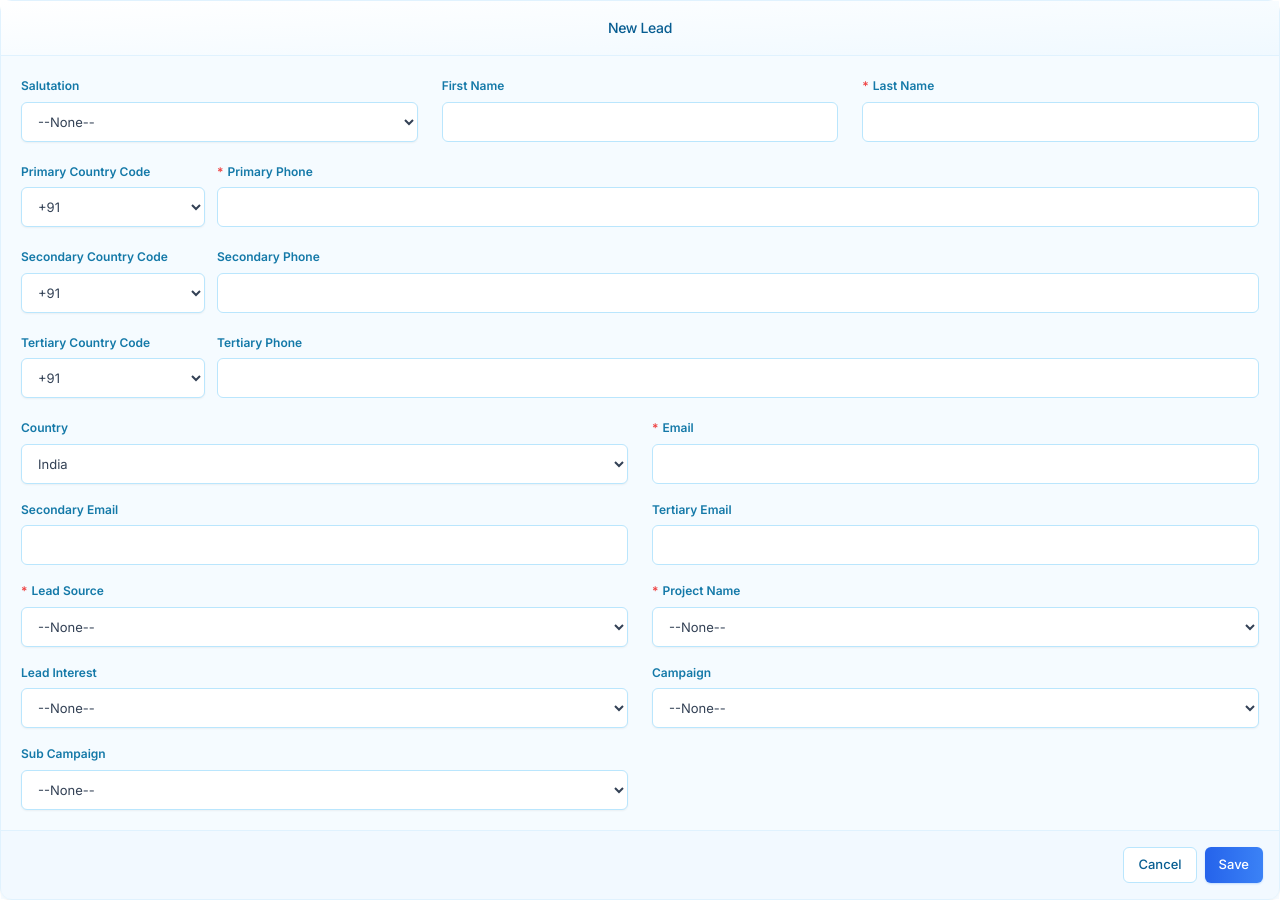
Test case: Create Lead duplicate handling › shows required errors by Save and highlights each missing field without submitting
(page scrolled)
Check: the dropdown labelled "*Project Name" is shown, box [652,606,1259,646]
Click the button "Save": (1234, 864) [1204,846,1263,882]
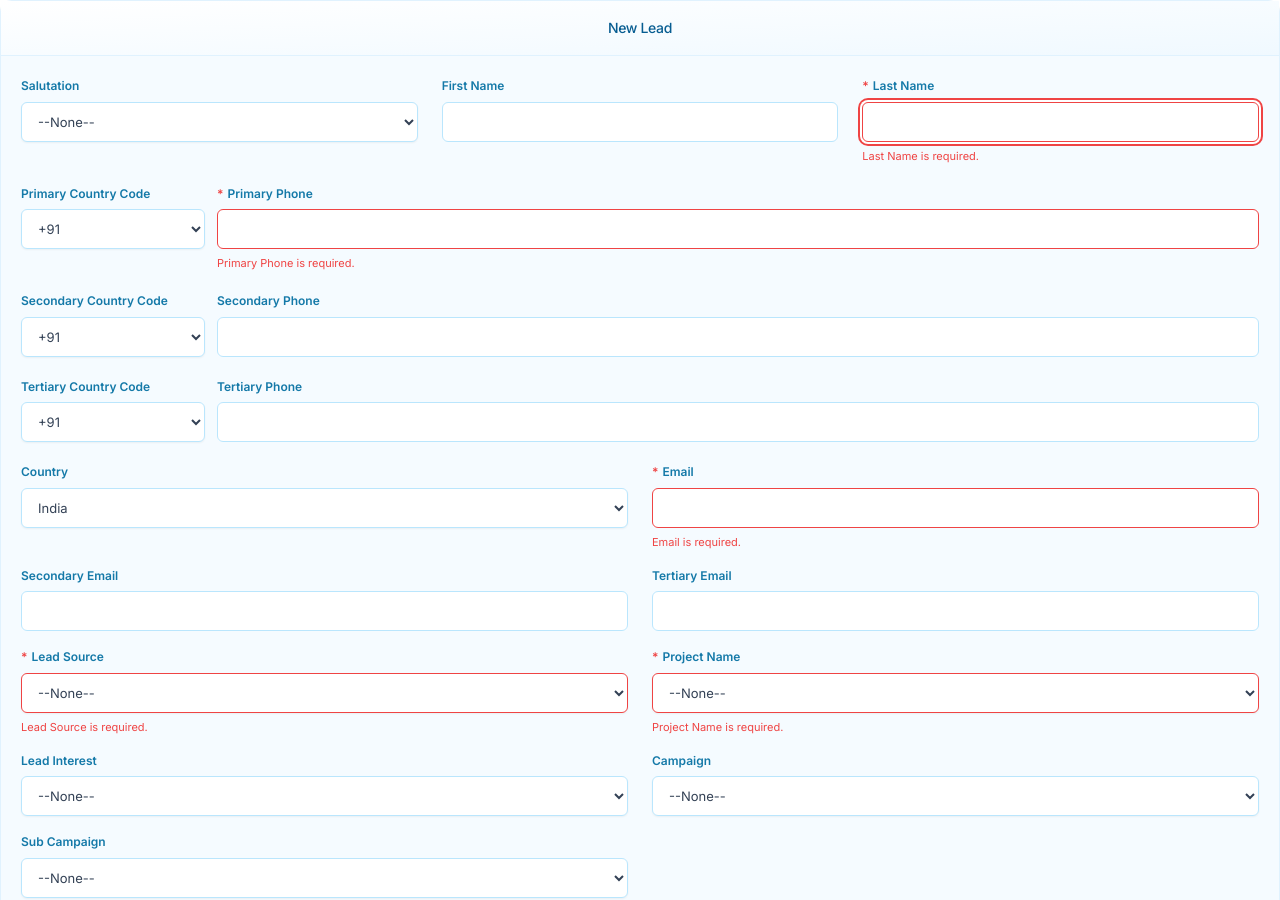
Check: the field labelled "*Primary Phone" is marked as invalid, box [217,209,1259,249]
Check: the field labelled "*Email" is marked as invalid, box [652,488,1259,528]
Check: the dropdown labelled "*Lead Source" is marked as invalid, box [21,672,628,712]
